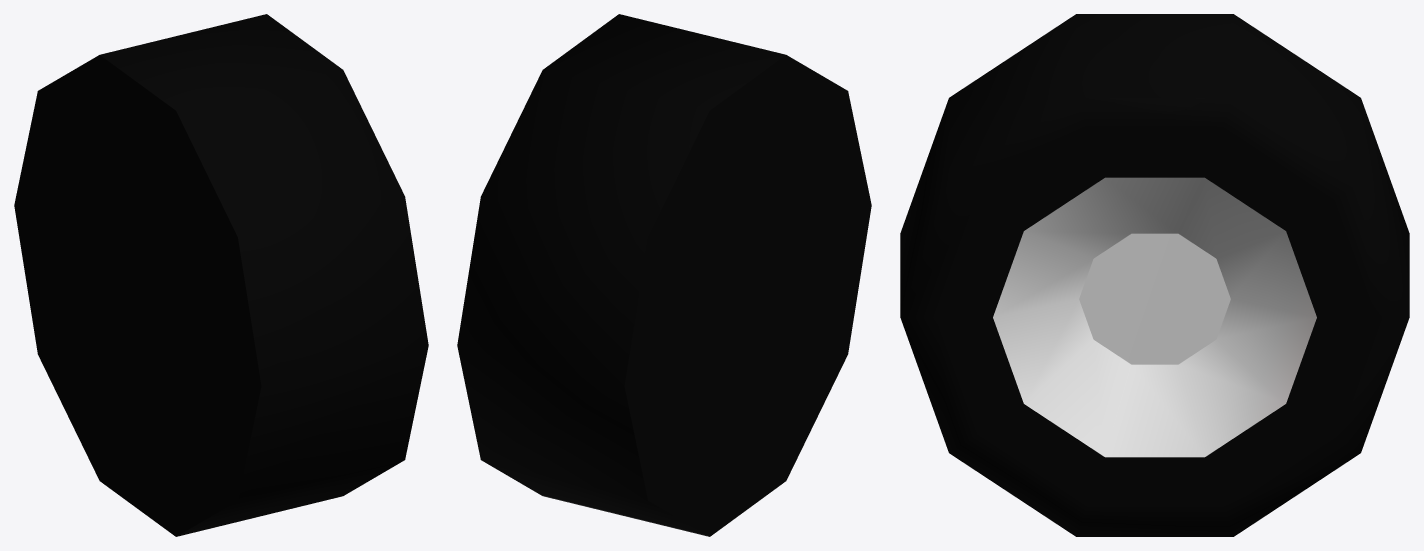
The model's file is Whell_5.fbx.
3 renders of one model, left to right at view 1: azimuth 30°, elevation 25°; view 2: azimuth 150°, elevation 25°; view 3: azimuth 270°, elevation 25°, orthographic. The views are drawn at different scales.
Parts seen in each view (by area): view 1: Whell_5; view 2: Whell_5; view 3: Whell_5.
Part boxes in pixels (bbox=[...]): Whell_5: bbox=[14, 14, 428, 536]; Whell_5: bbox=[457, 14, 871, 536]; Whell_5: bbox=[900, 14, 1409, 536].
Bounding box in the file's own units: 29.43 × 71.68 × 75.37.
